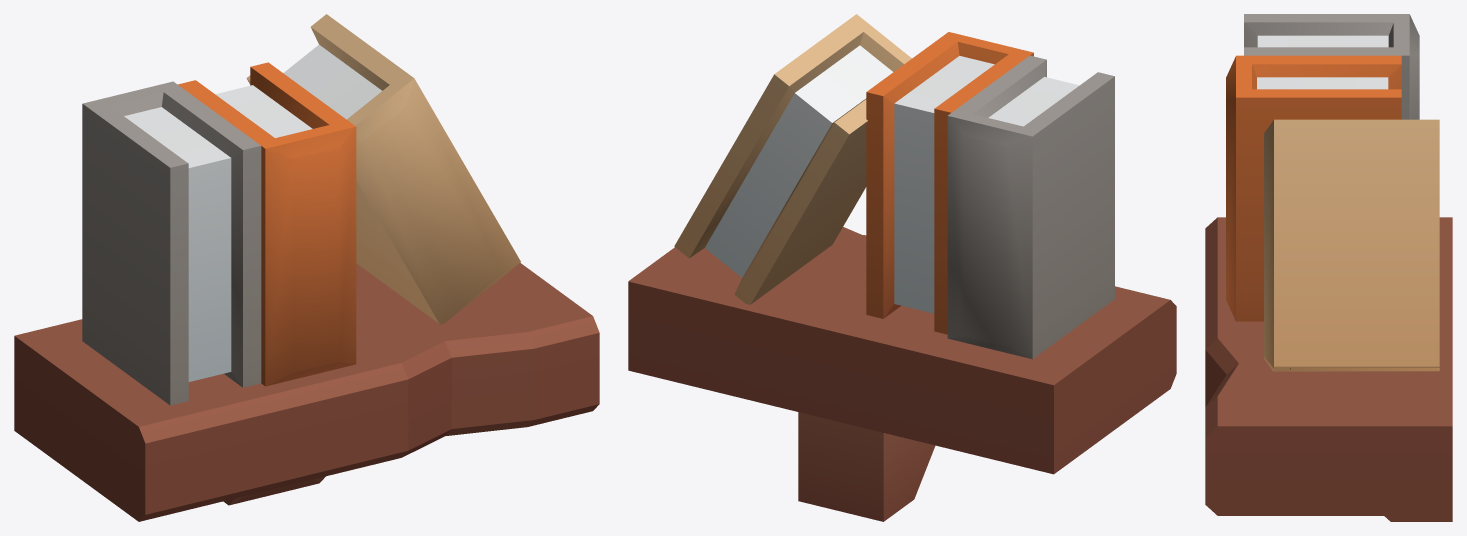
Rendered from shelf_small_books.glb.
3 views of the same model, side by side, from view 1: azimuth 30°, elevation 25°; view 2: azimuth 150°, elevation 25°; view 3: azimuth 270°, elevation 25° (orthographic). The views are drawn at different scales.
Visible parts, largest first — view 1: shelf_small_books; view 2: shelf_small_books; view 3: shelf_small_books.
Boxes of the visible parts, box(x1,y1,x2,y2) form: shelf_small_books: box(14, 14, 599, 521); shelf_small_books: box(628, 14, 1176, 521); shelf_small_books: box(1205, 14, 1452, 521).
Bounding box in the file's own units: 1 × 0.9307 × 0.5.
Materials: 1 (1 with a texture image).
